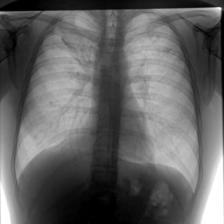tuberculosis: (8, 10, 204, 224)
